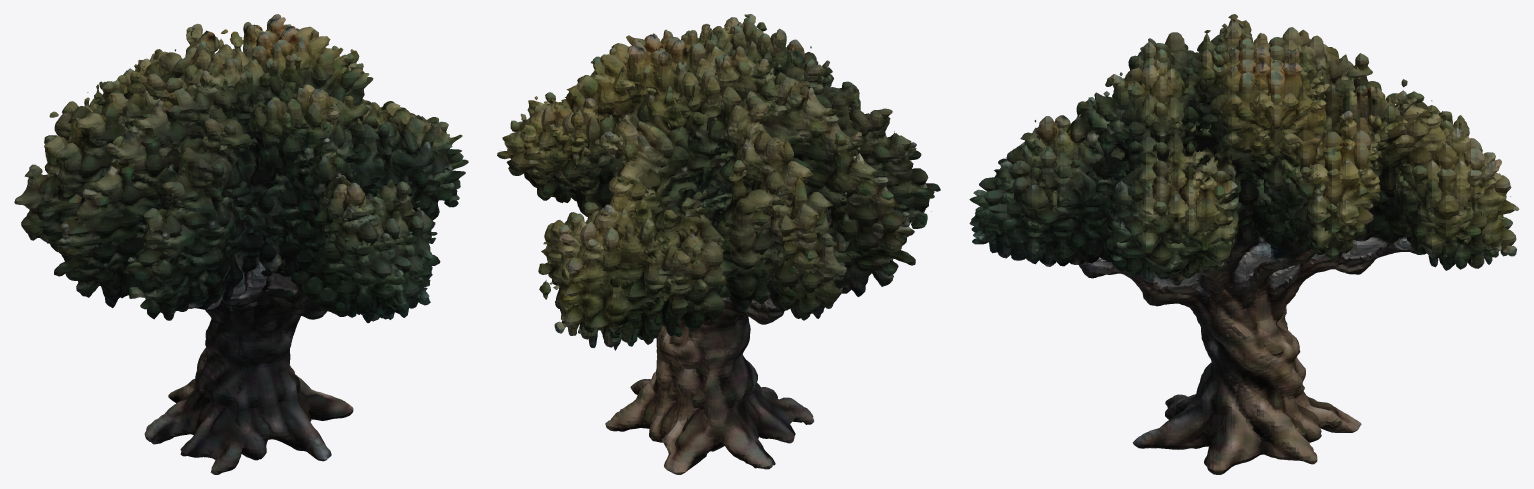
The model's file is ENV_OliveTree.glb.
3 views of the same model, side by side, from view 1: azimuth 30°, elevation 25°; view 2: azimuth 150°, elevation 25°; view 3: azimuth 270°, elevation 25° (orthographic). The views are drawn at different scales.
Parts seen in each view (by area): view 1: geometry_0; view 2: geometry_0; view 3: geometry_0.
Part boxes in pixels (x1,y1,x2,y2): geometry_0: [14, 14, 468, 474]; geometry_0: [497, 14, 940, 474]; geometry_0: [969, 14, 1519, 474].
Size of the model in its own units: 0.8531 by 0.8594 by 1.05.
Materials: 1 (1 with a texture image).
